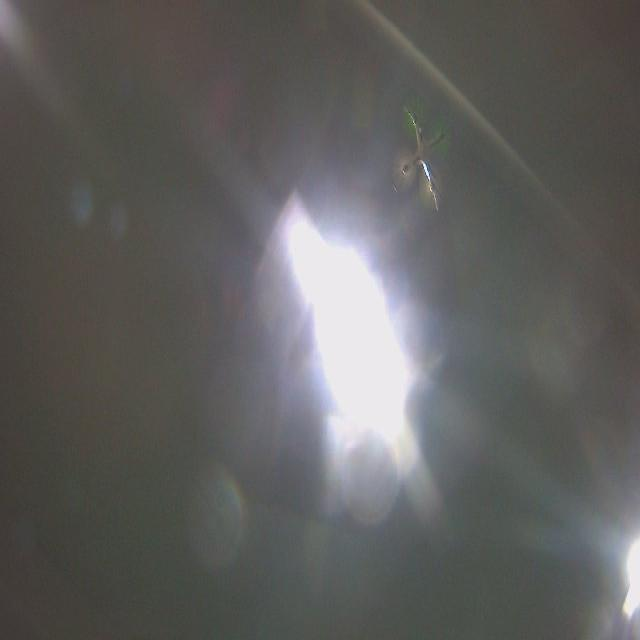drone: (386, 90, 459, 213)
